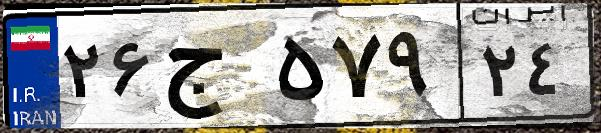2: (57, 26, 110, 100), (475, 38, 525, 113)
4: (525, 38, 570, 115)
5: (270, 28, 330, 110)
6: (110, 28, 158, 98)
7: (330, 28, 385, 110)
9: (385, 28, 445, 110)
ج: (158, 20, 270, 120)
